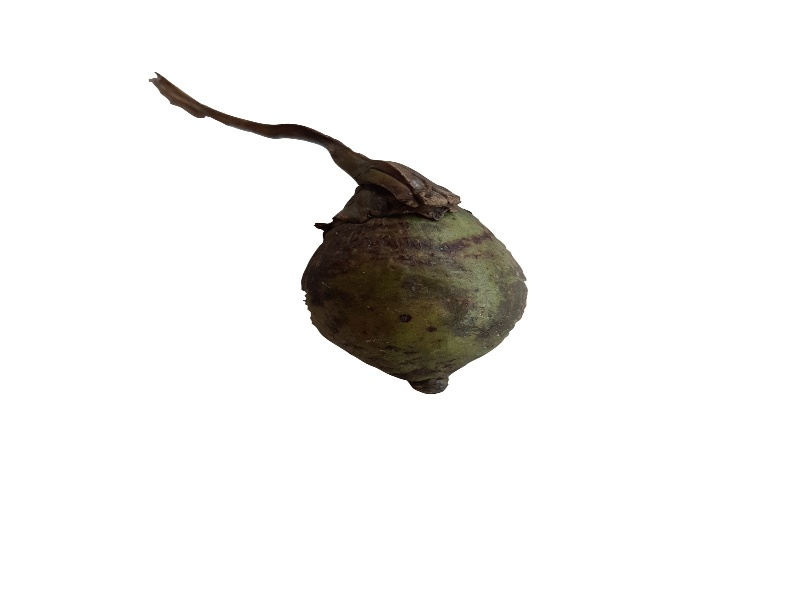arecanut: (294, 157, 533, 404)
